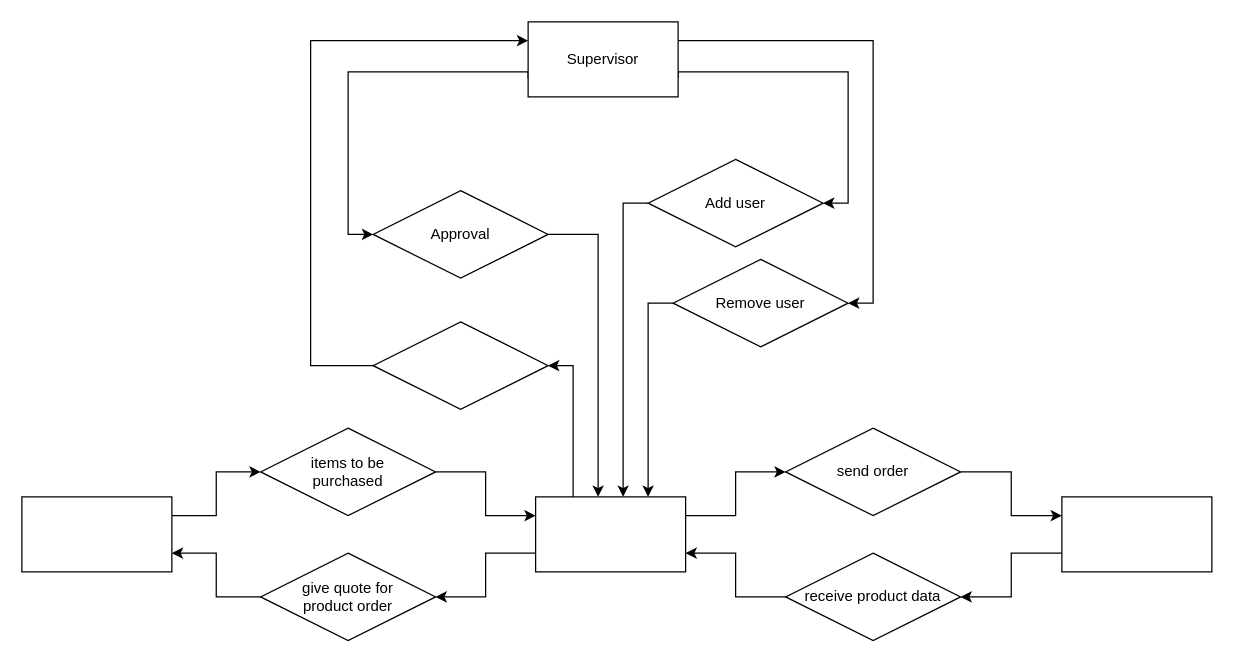
The diagram is 1234 pixels wide and 663 high, and some of its shapes have lost their labels. Each missing label, with the centre of its shape:
"Employee" belongs at pixel 96 534.
"Order quotes over $5000" belongs at pixel 460 365.
"Procurement System" belongs at pixel 610 534.
"Supplier" belongs at pixel 1136 534.
